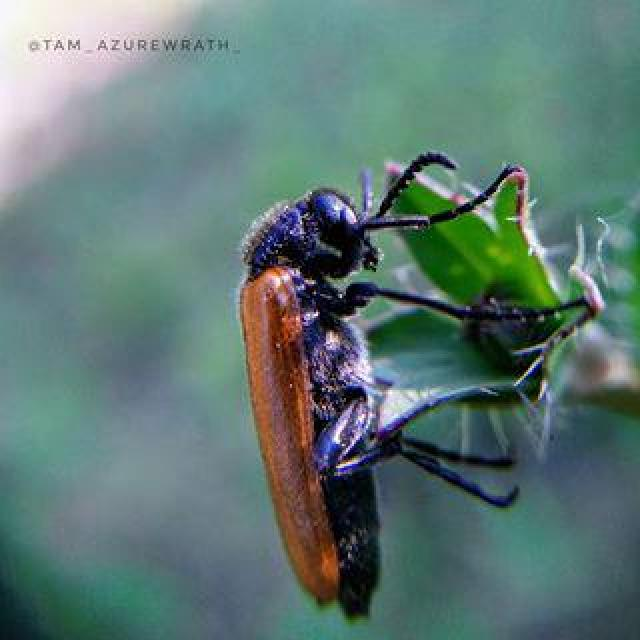BlisterBeetle-Adult-: (208, 126, 558, 634)
